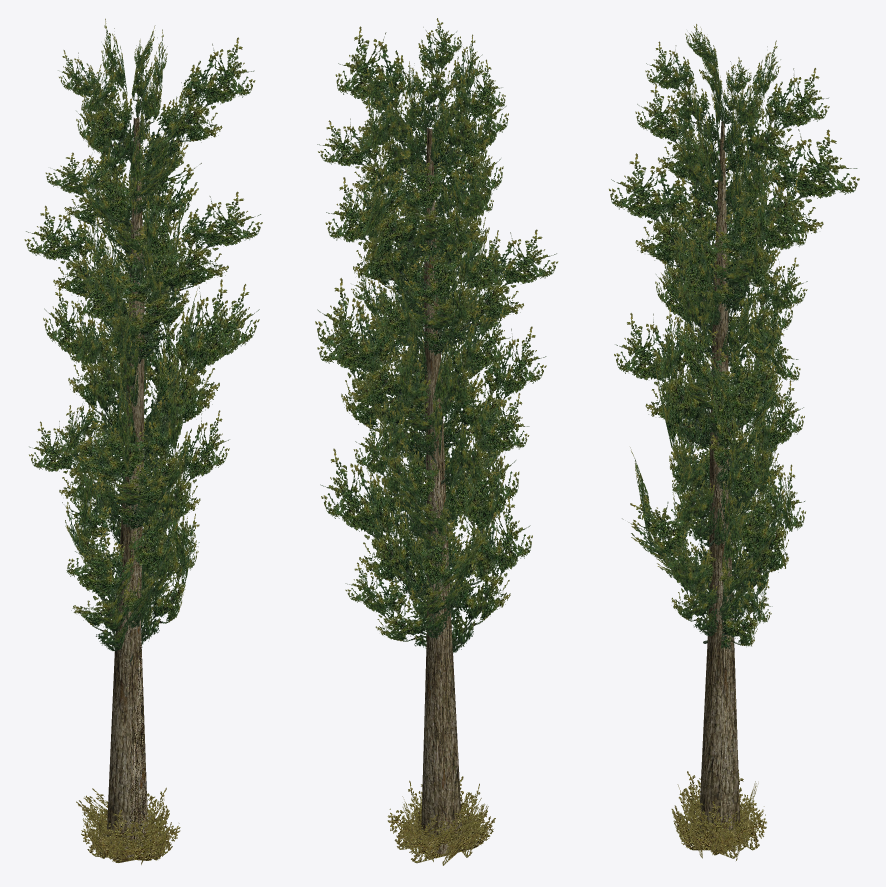
Rendered from w_cd_gra_02.glb.
The picture shows the model from 3 angles, left to right: view 1: azimuth 30°, elevation 25°; view 2: azimuth 150°, elevation 25°; view 3: azimuth 270°, elevation 25°; orthographic projection.
Parts seen in each view (by area): view 1: w_cd_lea_02, w_cd_wood_02, w_cd_gra_02; view 2: w_cd_lea_02, w_cd_wood_02, w_cd_gra_02; view 3: w_cd_lea_02, w_cd_wood_02, w_cd_gra_02.
Part boxes in pixels (<box>): w_cd_lea_02: <box>24,18,262,662</box>; w_cd_wood_02: <box>106,117,148,857</box>; w_cd_gra_02: <box>76,787,180,864</box>; w_cd_lea_02: <box>315,18,558,653</box>; w_cd_wood_02: <box>421,127,461,854</box>; w_cd_gra_02: <box>387,776,495,865</box>; w_cd_lea_02: <box>609,24,859,649</box>; w_cd_wood_02: <box>698,121,740,845</box>; w_cd_gra_02: <box>671,769,766,860</box>.
Bounding box in the file's own units: 11.83 × 40.22 × 11.86.
Materials: 3 (3 with a texture image).
